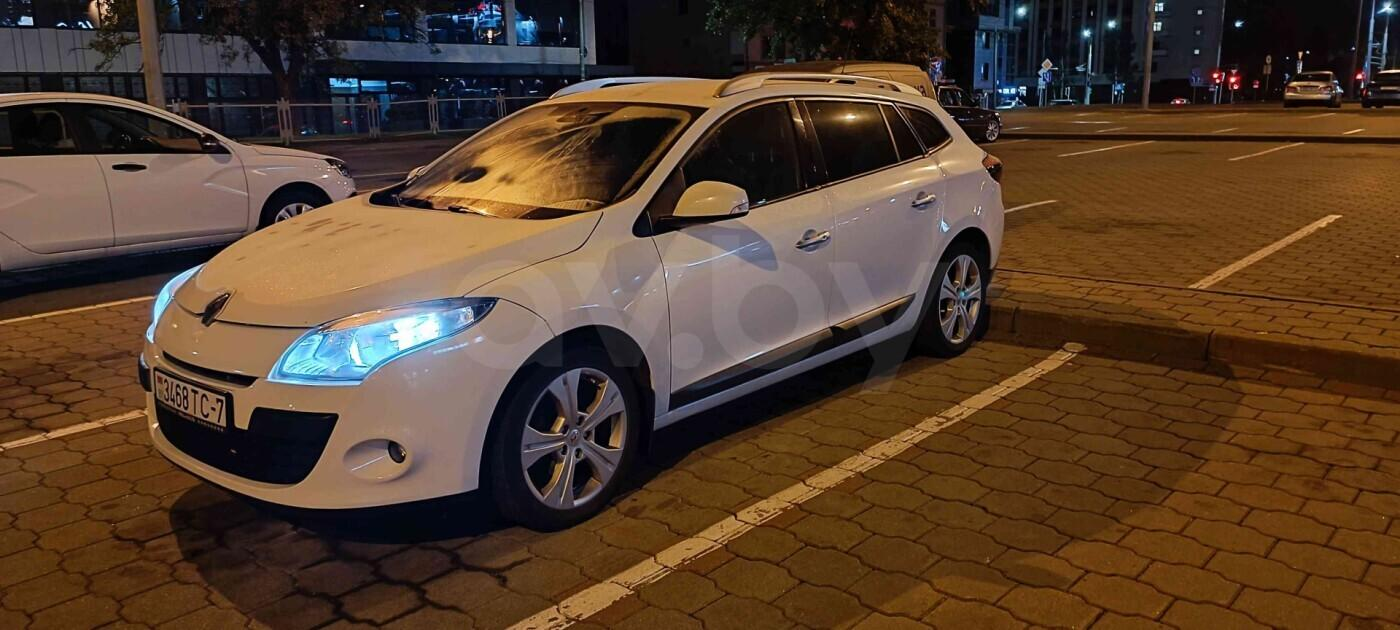Megane_2008-2014: (139, 72, 1008, 530)
